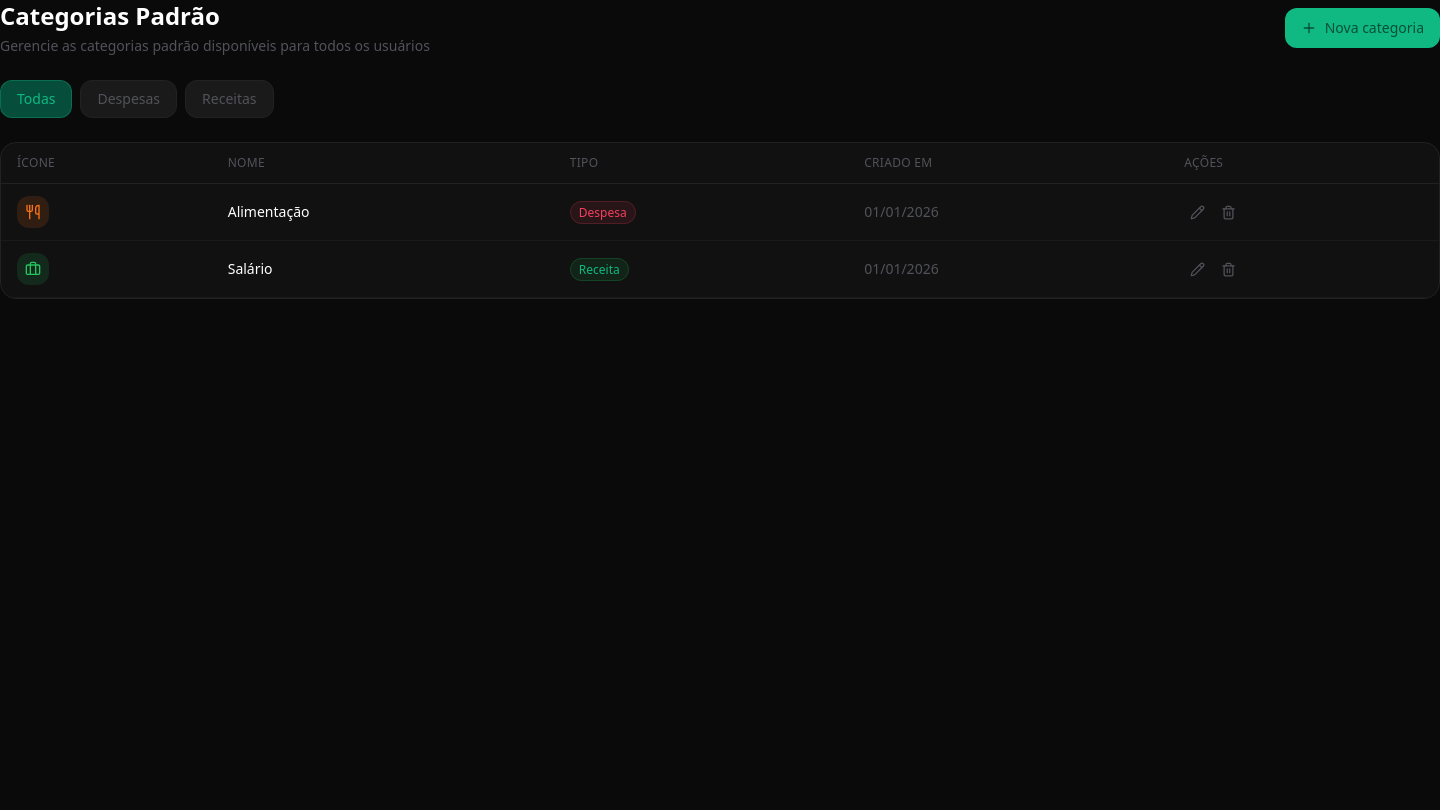
Scenario: AdminCategoriesPage › deve abrir modal de exclusão ao clicar em excluir
Click the button titled "Excluir" in the row of "Alimentação" at point(1229, 212), box [1215, 198, 1242, 226]
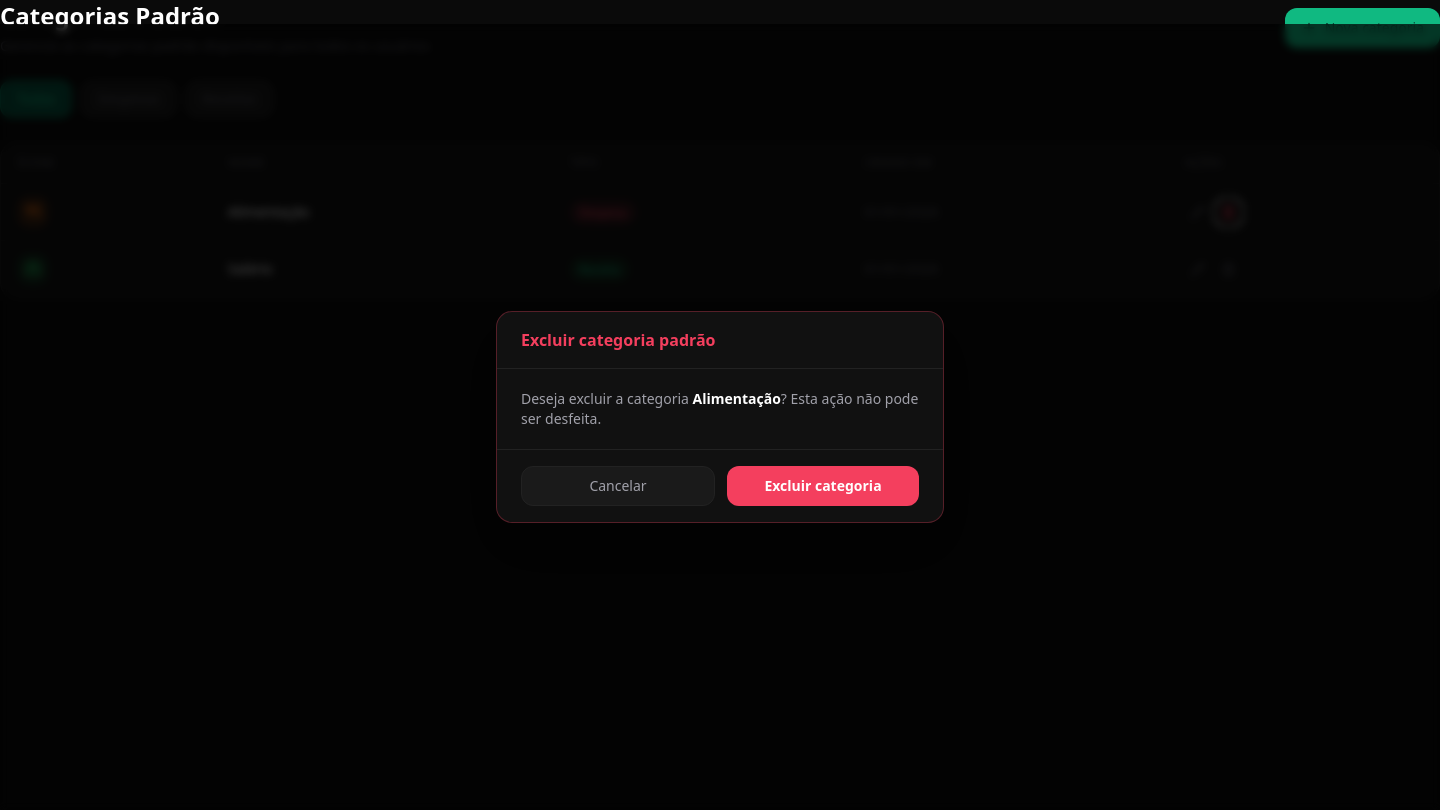
Expected: the heading "Excluir categoria padrão" is shown, [521, 329, 716, 351]
